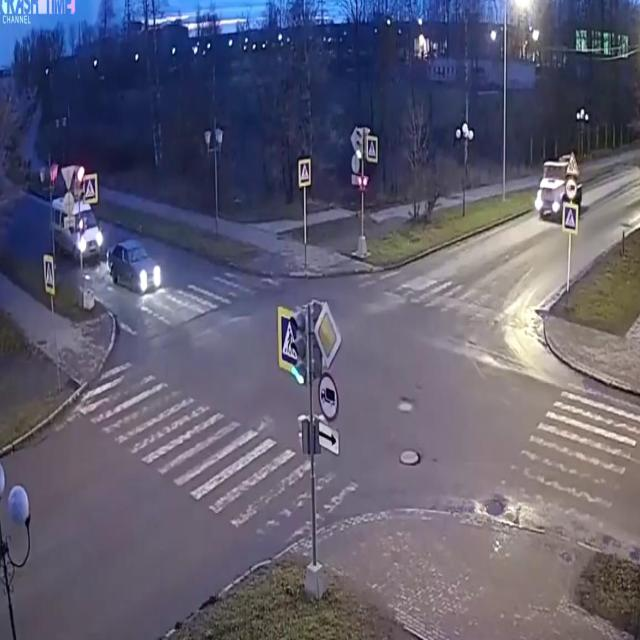non_accident: (45, 183, 167, 302)
